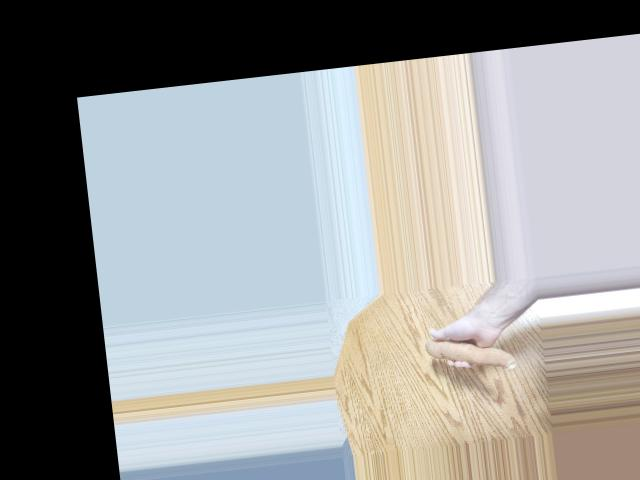sweet_potato: (423, 331, 515, 364)
